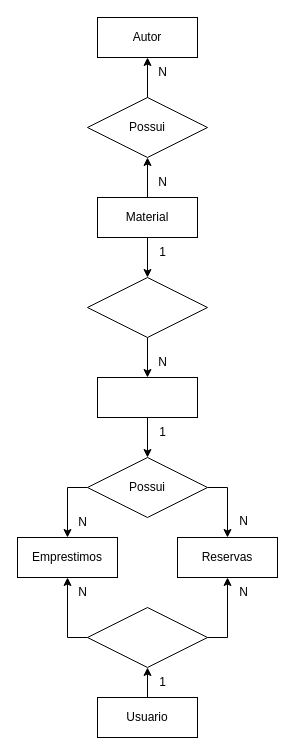
Some shapes in this 295 by 755 pixel diagram are drawn without their labels. Each missing label, with the centre of its shape:
"Exemplar" belongs at point 147,397.
"Gera" belongs at point 147,307.
"Realiza" belongs at point 147,637.
